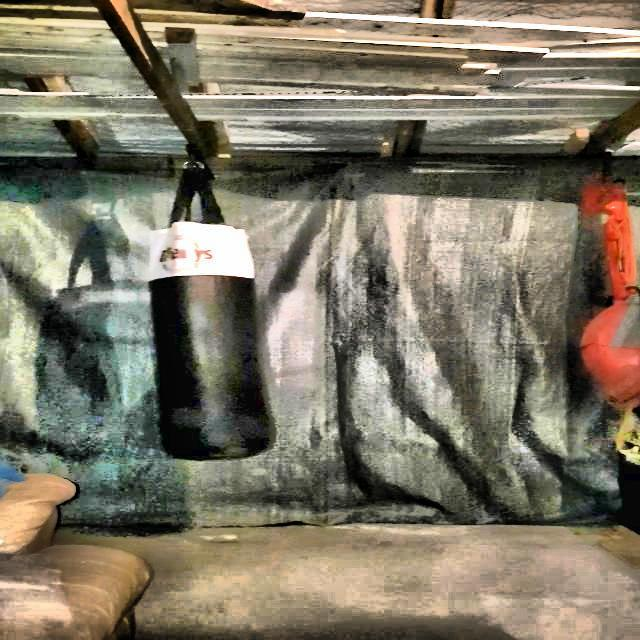boxing-bag: (143, 136, 266, 462)
